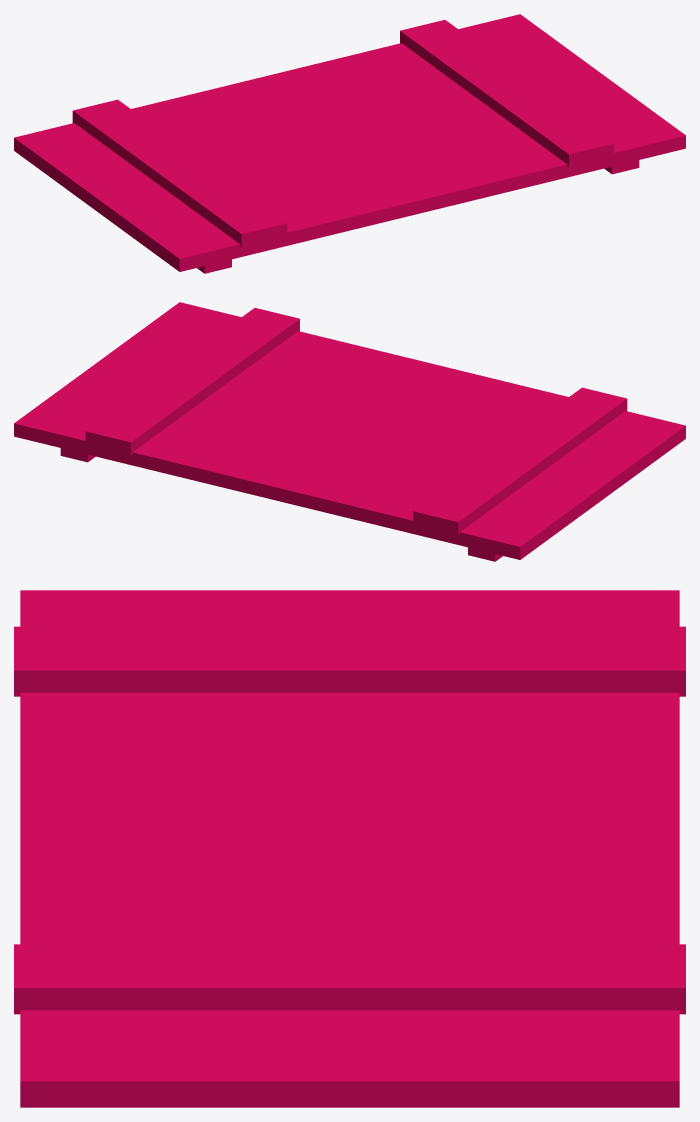
The model's file is Woodbox_03_Lid_Lod0.fbx.
The picture shows the model from 3 angles, top to bottom: view 1: azimuth 30°, elevation 25°; view 2: azimuth 150°, elevation 25°; view 3: azimuth 270°, elevation 25°; orthographic projection. The views are drawn at different scales.
Parts seen in each view (by area): view 1: Woodbox_03_Lid_Lod0; view 2: Woodbox_03_Lid_Lod0; view 3: Woodbox_03_Lid_Lod0.
Boxes of the visible parts, box(x1,y1,x2,y2) form: Woodbox_03_Lid_Lod0: box(14, 14, 685, 273); Woodbox_03_Lid_Lod0: box(14, 302, 685, 561); Woodbox_03_Lid_Lod0: box(14, 590, 685, 1107).
Size of the model in its own units: 136 by 9.42 by 78.86.
